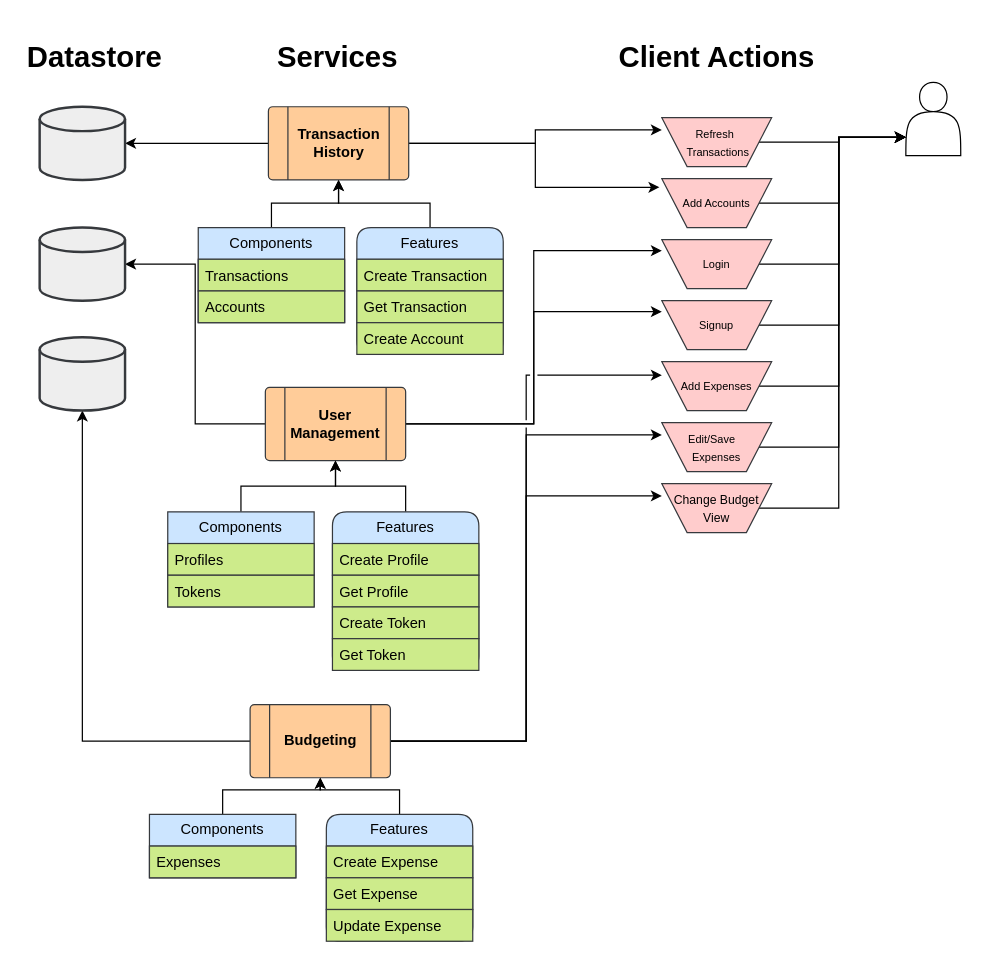
Image size: 982x965. Some labels were removed from this diagram. Each missing label, with the centre of its shape:
"Budget" goes at [82,373].
"Transaction" goes at [82,143].
"User" goes at [82,263].
